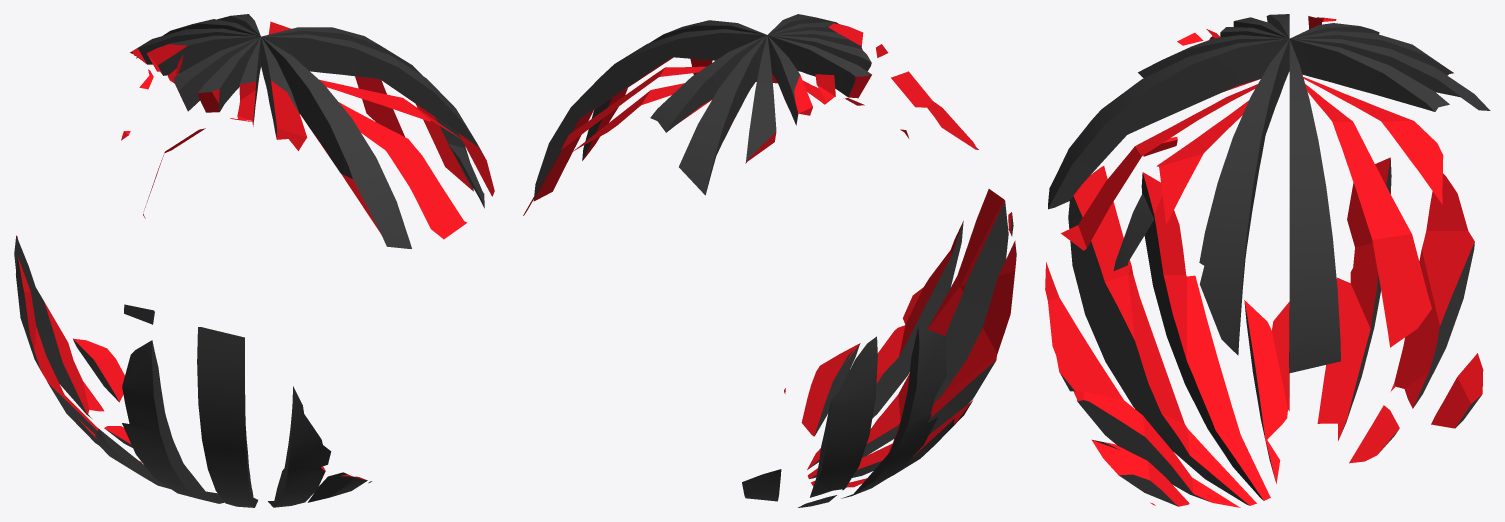
The picture shows the model from 3 angles, left to right: view 1: azimuth 30°, elevation 25°; view 2: azimuth 150°, elevation 25°; view 3: azimuth 270°, elevation 25°; orthographic projection. The views are drawn at different scales.
Parts seen in each view (by area): view 1: Sphere; view 2: Sphere; view 3: Sphere.
Part boxes in pixels (x1,y1,x2,y2): Sphere: [14, 14, 494, 507]; Sphere: [523, 14, 1016, 507]; Sphere: [1045, 14, 1490, 507].
Bounding box in the file's own units: 196 × 198 × 167.
